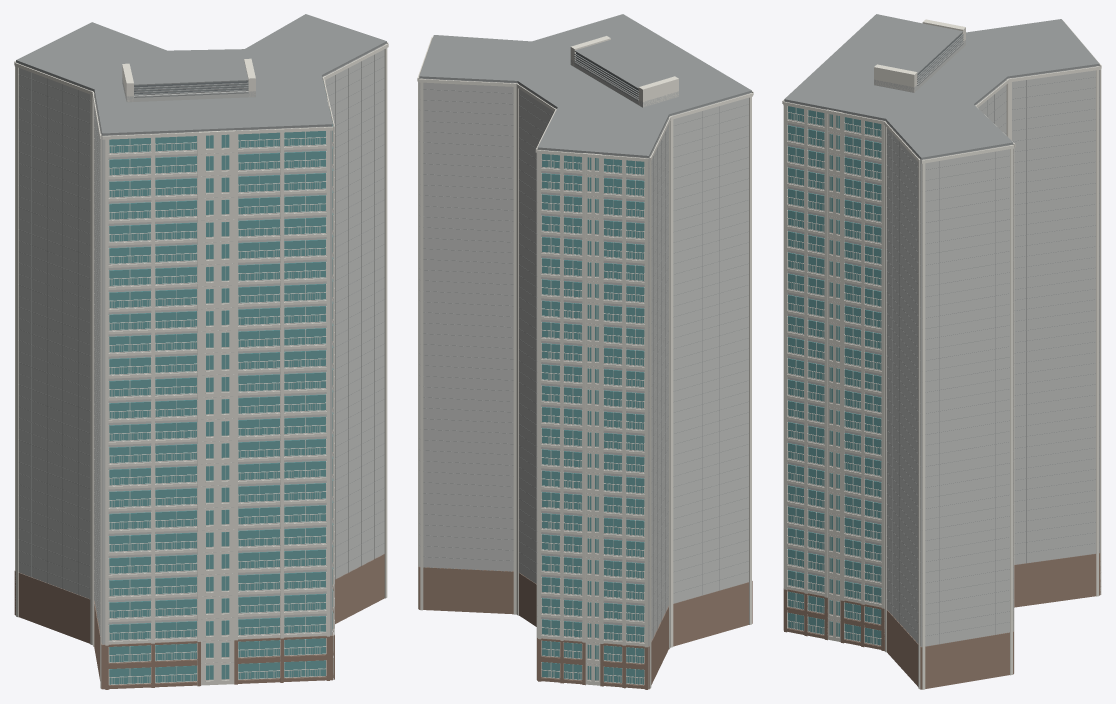
File: bespoke-jamsil-els-157.glb
3 views of the same model, side by side, from view 1: azimuth 30°, elevation 25°; view 2: azimuth 150°, elevation 25°; view 3: azimuth 270°, elevation 25° (orthographic). The views are drawn at different scales.
Visible parts, largest first — view 1: Els157_editable_Els157_light_grey_solid_wall, Els157_editable_Els157_turquoise_balcony_glazing, Els157_white_exact_chunk_1, Els157_editable_Els157_modest_grey_flat_roof_caps, Els157_white_exact_chunk_2, Els157_editable_Els157_muted_ground_wall, Els157_white_exact_chunk_3, Els157_editable_Els157_narrow_charcoal_service_strips; view 2: Els157_editable_Els157_light_grey_solid_wall, Els157_editable_Els157_modest_grey_flat_roof_caps, Els157_editable_Els157_turquoise_balcony_glazing, Els157_white_exact_chunk_0, Els157_white_exact_chunk_1, Els157_editable_Els157_muted_ground_wall, Els157_white_exact_chunk_3; view 3: Els157_editable_Els157_light_grey_solid_wall, Els157_white_exact_chunk_3, Els157_editable_Els157_modest_grey_flat_roof_caps, Els157_editable_Els157_turquoise_balcony_glazing, Els157_white_exact_chunk_2, Els157_editable_Els157_muted_ground_wall, Els157_white_exact_chunk_0.
Part boxes in pixels (box(x1,y1,x2,y2)): Els157_editable_Els157_light_grey_solid_wall: box(16, 43, 386, 663); Els157_editable_Els157_turquoise_balcony_glazing: box(109, 112, 333, 684); Els157_white_exact_chunk_1: box(14, 61, 280, 688); Els157_editable_Els157_modest_grey_flat_roof_caps: box(16, 14, 386, 635); Els157_white_exact_chunk_2: box(102, 98, 334, 677); Els157_editable_Els157_muted_ground_wall: box(14, 554, 384, 689); Els157_white_exact_chunk_3: box(122, 42, 388, 679); Els157_editable_Els157_narrow_charcoal_service_strips: box(134, 81, 248, 94); Els157_editable_Els157_light_grey_solid_wall: box(419, 59, 751, 664); Els157_editable_Els157_modest_grey_flat_roof_caps: box(419, 14, 751, 640); Els157_editable_Els157_turquoise_balcony_glazing: box(542, 154, 644, 684); Els157_white_exact_chunk_0: box(538, 150, 644, 685); Els157_white_exact_chunk_1: box(537, 93, 752, 689); Els157_editable_Els157_muted_ground_wall: box(418, 566, 752, 689); Els157_white_exact_chunk_3: box(417, 36, 678, 679); Els157_editable_Els157_light_grey_solid_wall: box(784, 40, 1099, 646); Els157_white_exact_chunk_3: box(783, 19, 1100, 689); Els157_editable_Els157_modest_grey_flat_roof_caps: box(784, 14, 1099, 646); Els157_editable_Els157_turquoise_balcony_glazing: box(788, 106, 881, 645); Els157_white_exact_chunk_2: box(782, 18, 871, 641); Els157_editable_Els157_muted_ground_wall: box(783, 553, 1100, 689); Els157_white_exact_chunk_0: box(1099, 64, 1101, 594).
Size of the model in its own units: 38.77 by 68.35 by 35.95.
